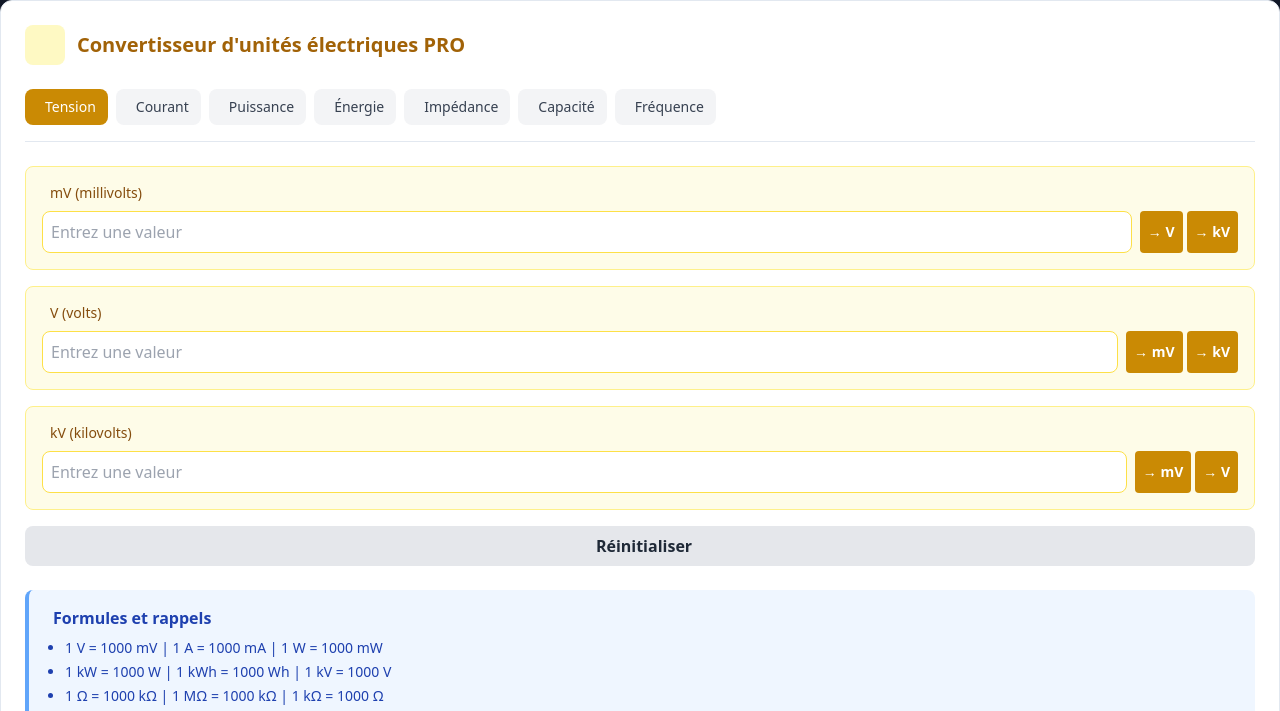
Test case: ElectricalUnitConverter › handles puissance (power) conversions
The image size is (1280, 711).
Click the button with aria-label "Afficher les conversions de Puissance": click(257, 107) [209,89,306,125]
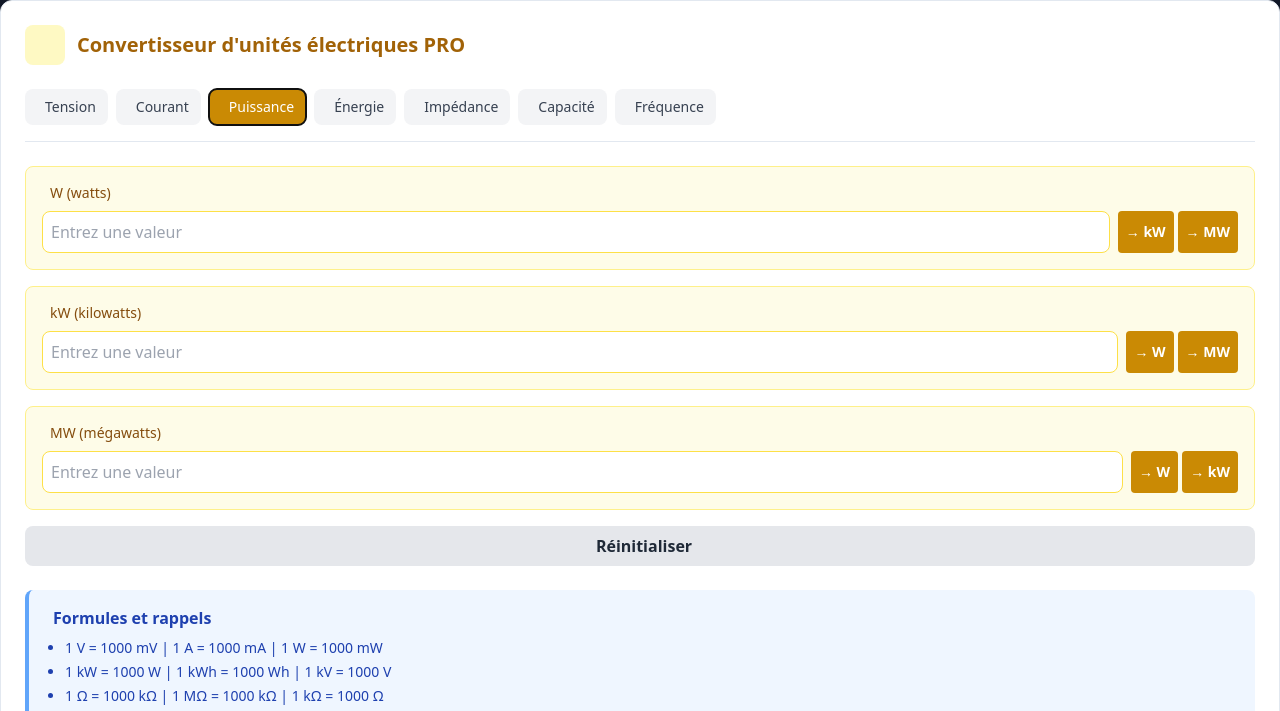
In the number field named "Valeur en W": (576, 232) [42,211,1110,253], type "2000"
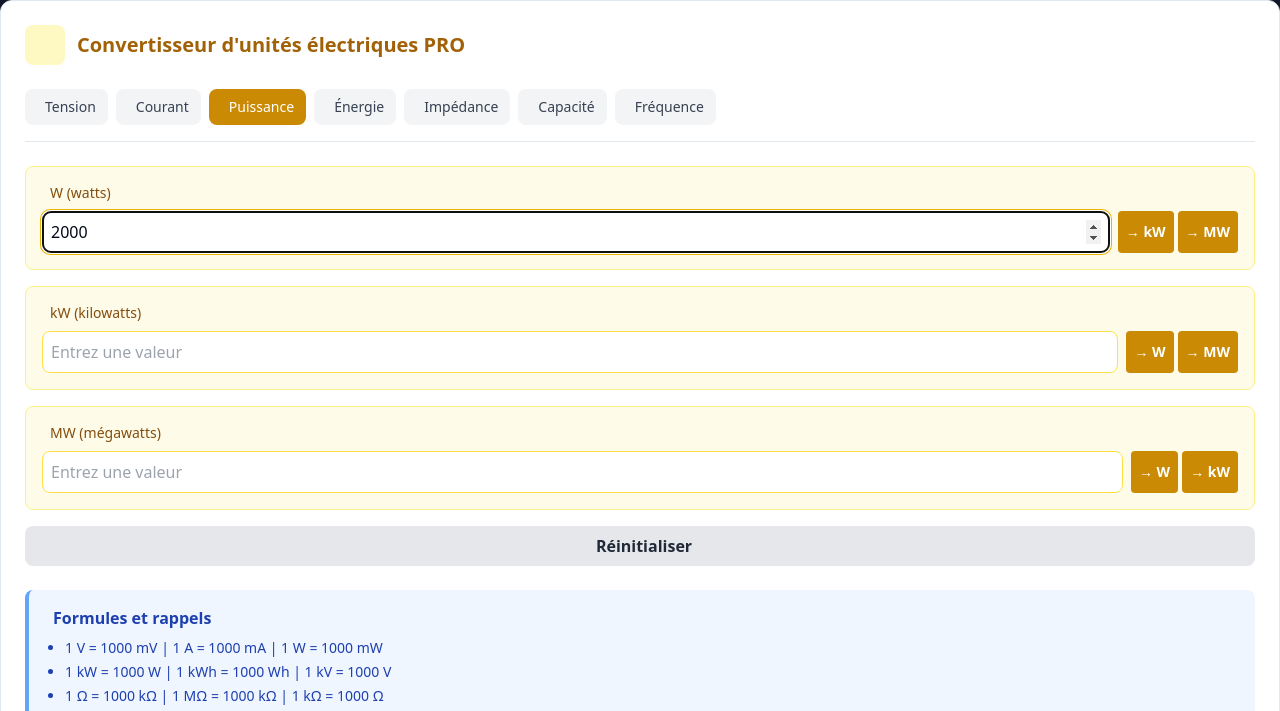
Click the 1st button titled "Convertir W en kW": click(1146, 232) [1118,211,1174,253]
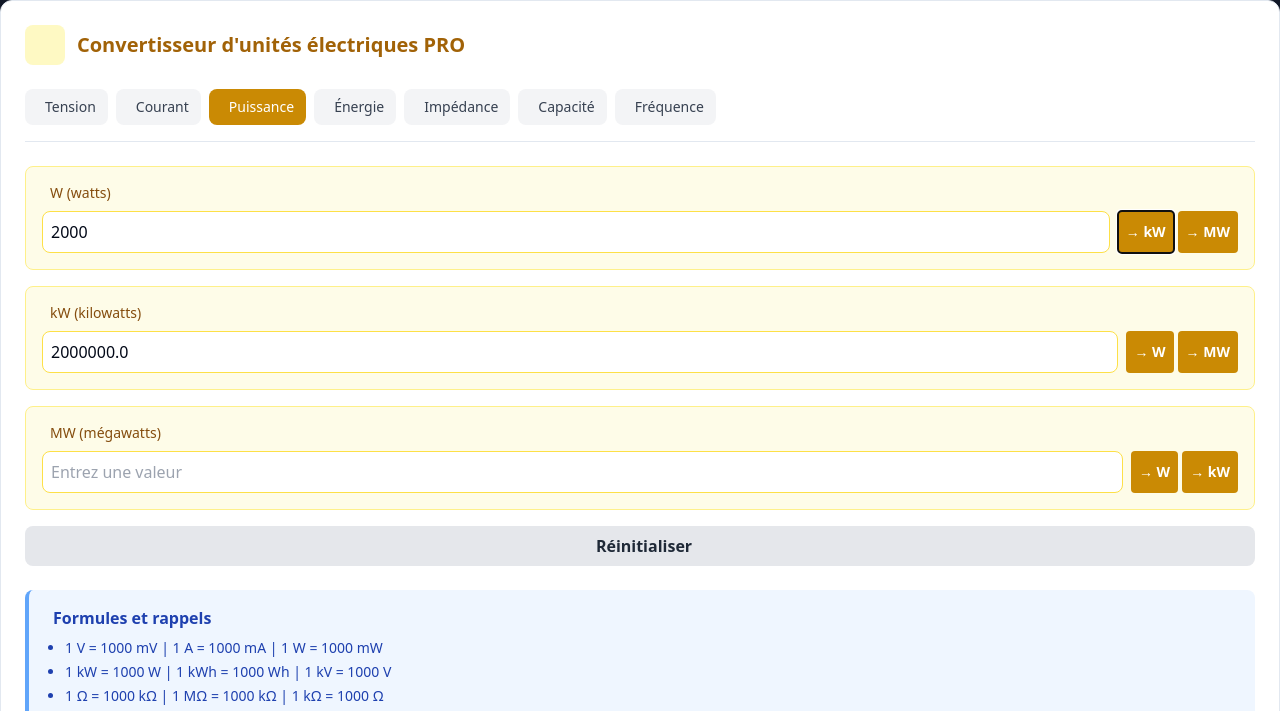
Now the number field showing "2000000" is shown, box [42,331,1118,373]
